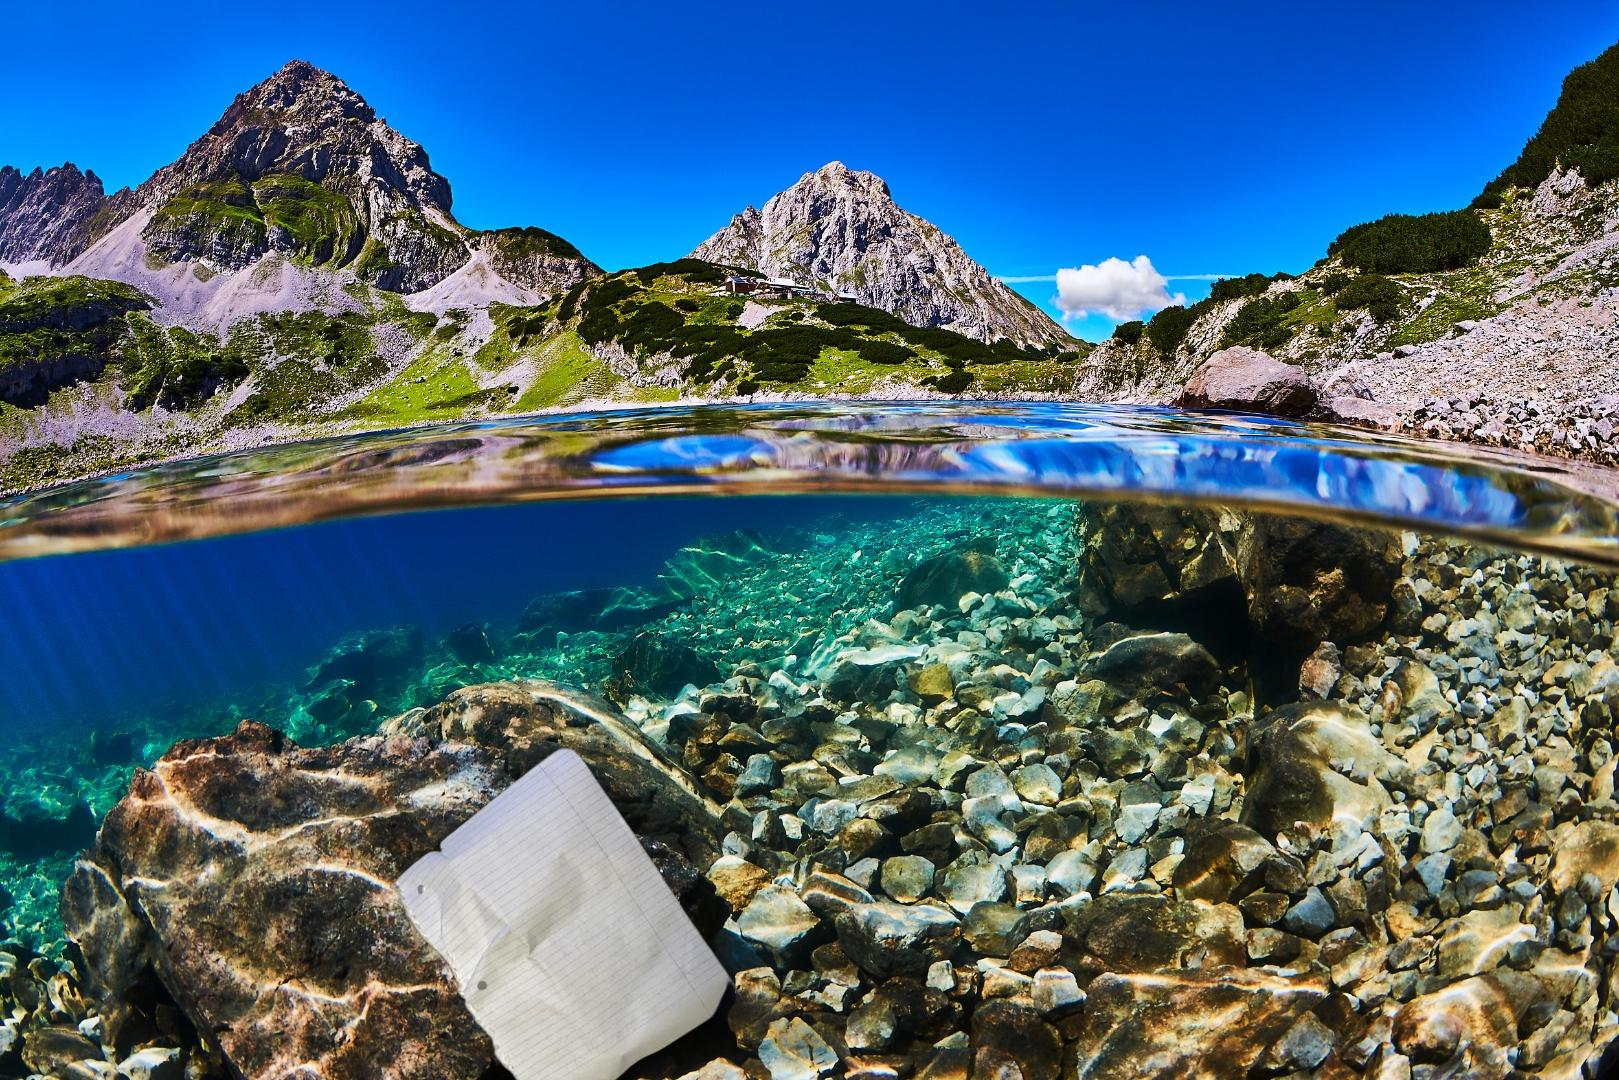paper: (387, 744, 746, 1080)
